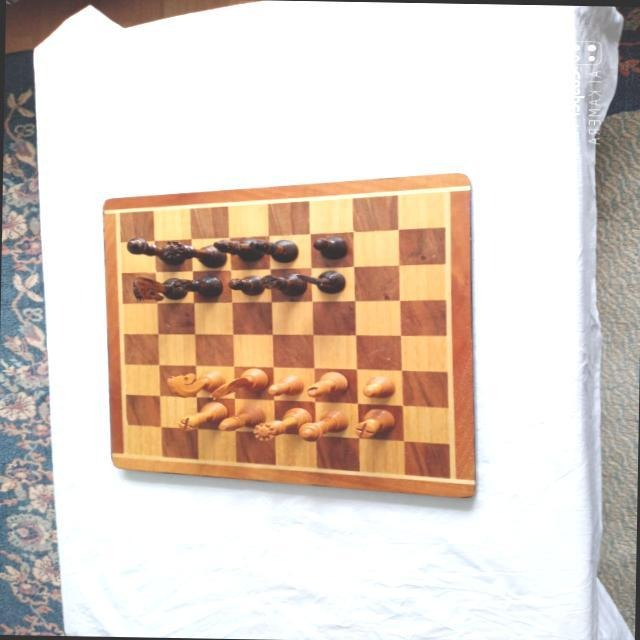black-bishop: (212, 235, 263, 260), (247, 238, 297, 262)
black-king: (125, 236, 185, 264)
black-knight: (132, 275, 188, 301), (295, 267, 345, 292)
black-pawn: (312, 235, 348, 259), (227, 273, 265, 295)
black-queen: (161, 239, 227, 268)
black-rook: (172, 274, 222, 298), (259, 271, 305, 296)
white-bishop: (217, 403, 265, 429), (307, 371, 349, 397)
white-king: (297, 407, 348, 441)
white-knight: (207, 365, 268, 398), (166, 368, 226, 397)
white-pawn: (268, 373, 304, 395), (361, 374, 395, 397)
white-queen: (251, 407, 312, 441)
white-rook: (176, 400, 227, 431), (353, 406, 395, 437)
